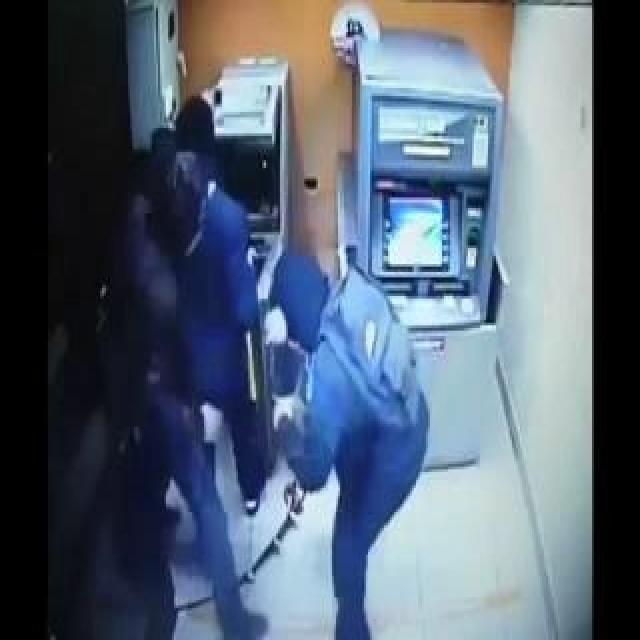thief: (138, 67, 258, 256)
